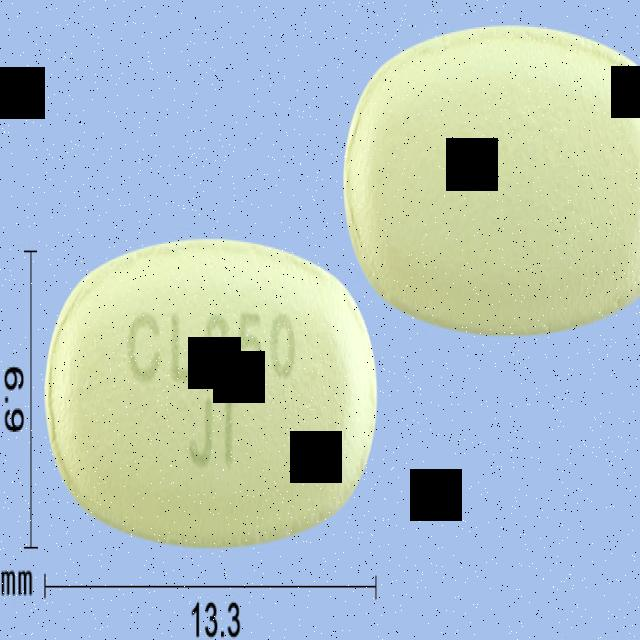Jecli - 500mg: (44, 237, 379, 552)
